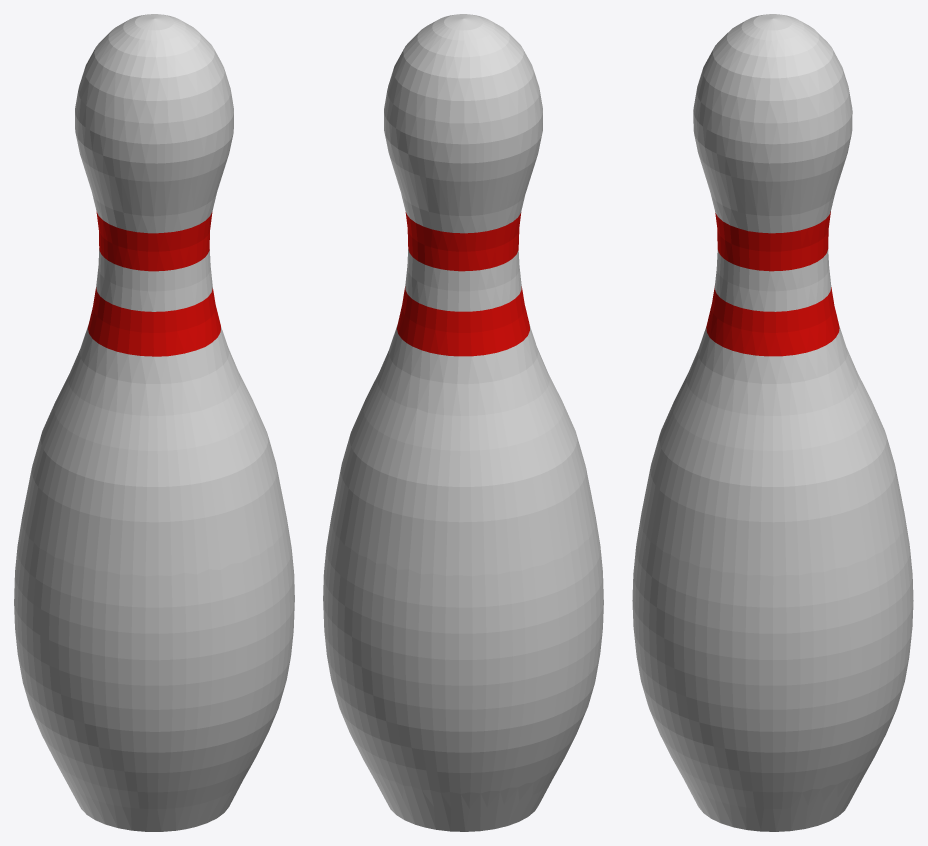
The model's file is bowling_pin.fbx.
The picture shows the model from 3 angles, left to right: view 1: azimuth 30°, elevation 25°; view 2: azimuth 150°, elevation 25°; view 3: azimuth 270°, elevation 25°; orthographic projection.
Visible parts, largest first — view 1: BowlingPin; view 2: BowlingPin; view 3: BowlingPin.
Boxes of the visible parts, x1,y1,x2,y2 form: BowlingPin: (14,14,294,831); BowlingPin: (323,14,603,831); BowlingPin: (632,14,913,831).
Size of the model in its own units: 50.24 by 154 by 50.24.
